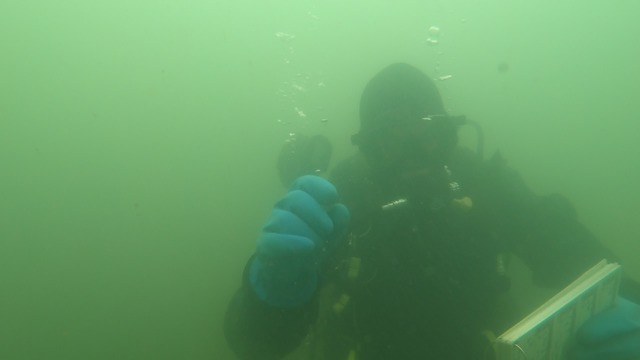Diver: (184, 39, 637, 358)
Hand: (235, 175, 359, 320)
Head: (342, 53, 496, 228)
